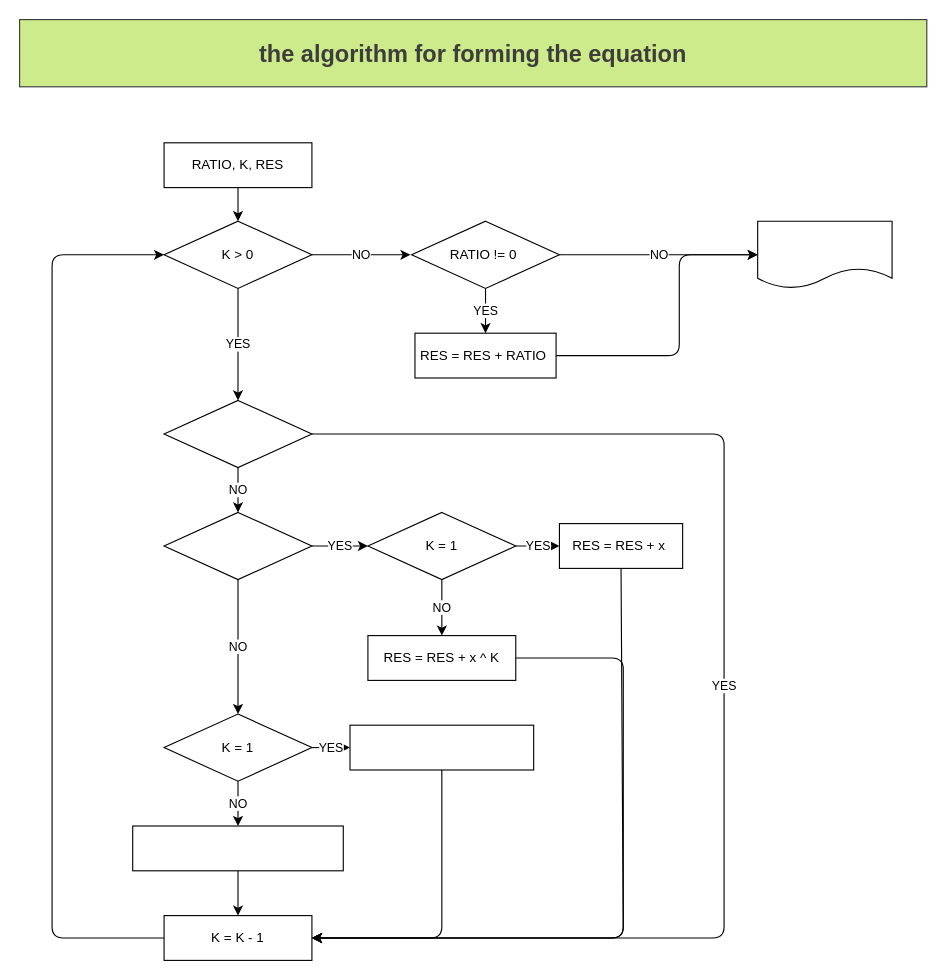
This 946x980 diagram has some shape labels left out. Here are the shapes that lost their labels. From the top down, the box of each, then its label:
(757, 220, 892, 288): RES + ' = 0'
(163, 399, 312, 468): RATIO = 0
(163, 511, 312, 580): RATIO = 1
(349, 724, 534, 770): RES = RES + RATIO * x
(132, 825, 343, 871): RES = RES + RATIO * x ^ K
